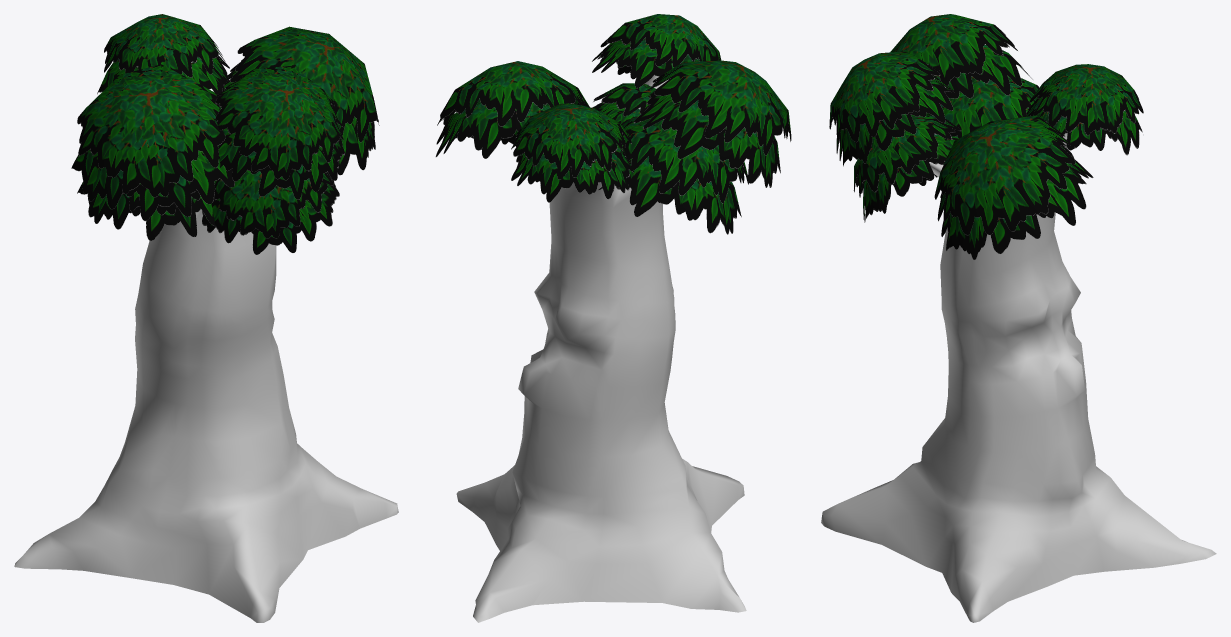
The model's file is OldOak270.fbx.
3 views of the same model, side by side, from view 1: azimuth 30°, elevation 25°; view 2: azimuth 150°, elevation 25°; view 3: azimuth 270°, elevation 25° (orthographic). The views are drawn at different scales.
Visible parts, largest first — view 1: polySurface6; view 2: polySurface6; view 3: polySurface6.
Boxes of the visible parts, bbox=[...] form: polySurface6: bbox=[14, 14, 398, 622]; polySurface6: bbox=[435, 14, 791, 622]; polySurface6: bbox=[821, 14, 1216, 622].
Bounding box in the file's own units: 2507 × 3573 × 2626.
